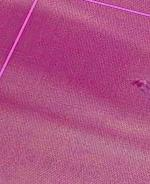knot: (132, 76, 149, 94)
